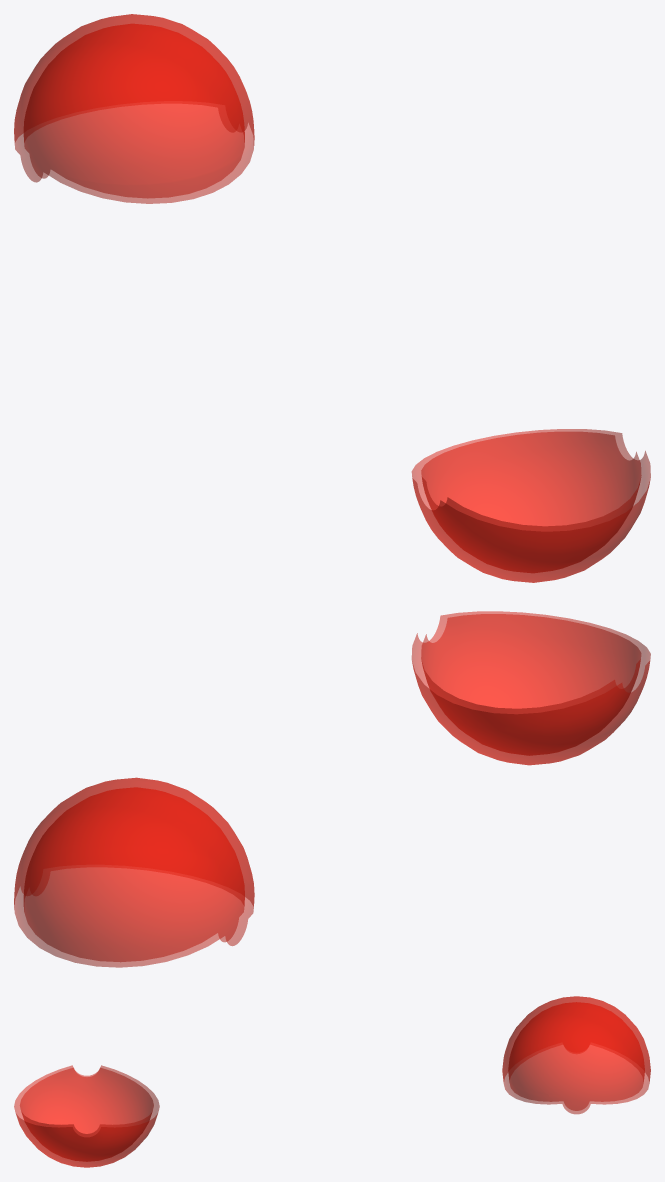
File: BallTransp.FBX
3 renders of one model, top to bottom at view 1: azimuth 30°, elevation 25°; view 2: azimuth 150°, elevation 25°; view 3: azimuth 270°, elevation 25°, orthographic. The views are drawn at different scales.
Visible parts, largest first — view 1: Mesh001, Sphere001; view 2: Mesh001, Sphere001; view 3: Mesh001, Sphere001.
Boxes of the visible parts, x1,y1,x2,y2 form: Mesh001: [14, 14, 254, 203]; Sphere001: [411, 429, 650, 582]; Mesh001: [14, 777, 254, 967]; Sphere001: [411, 611, 650, 765]; Mesh001: [502, 996, 650, 1114]; Sphere001: [14, 1065, 159, 1167].
Bounding box in the file's own units: 45.12 × 52.79 × 193.
